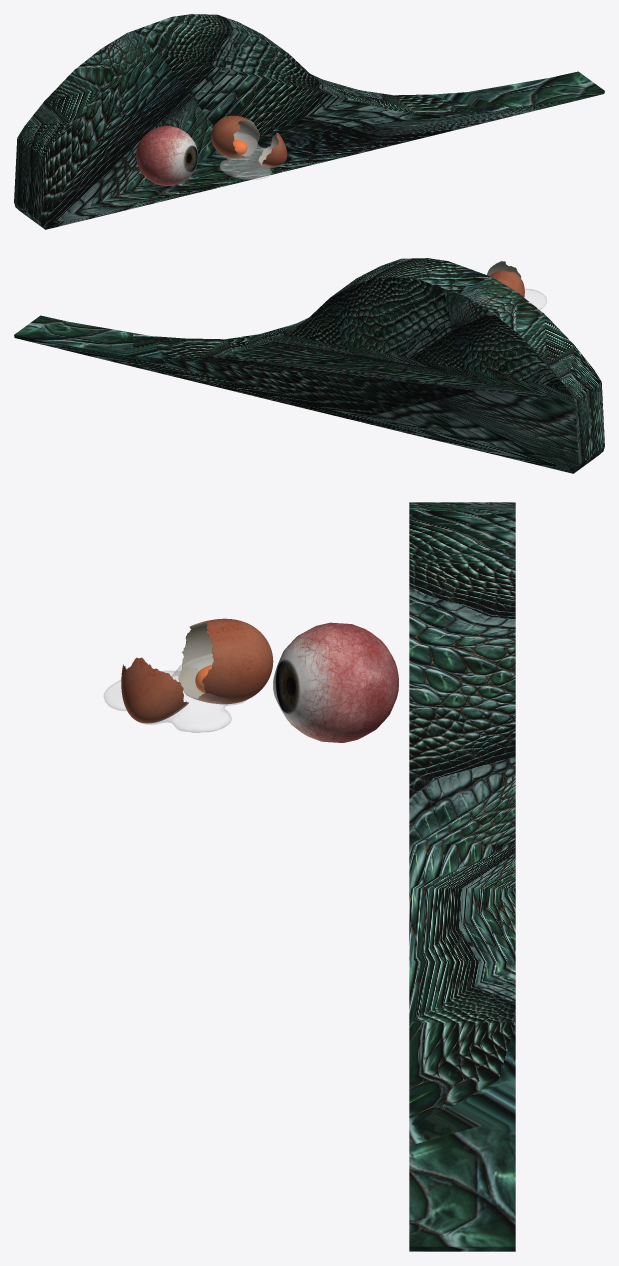
File: interactive.alligator.github.glb
The picture shows the model from 3 angles, top to bottom: view 1: azimuth 30°, elevation 25°; view 2: azimuth 150°, elevation 25°; view 3: azimuth 270°, elevation 25°; orthographic projection. The views are drawn at different scales.
Parts seen in each view (by area): view 1: Plane.001, low, blanc_blanc_0, Bake_target_outside_0, Bake_target_inside_0, Bake_target.001_outside_0; view 2: Plane.001, Bake_target_outside_0, blanc_blanc_0; view 3: Plane.001, low, Bake_target_outside_0, blanc_blanc_0, Bake_target.001_outside_0, Bake_target_inside_0.
Boxes of the visible parts, x1,y1,x2,y2 form: Plane.001: (14,14,604,229); low: (136,126,198,186); blanc_blanc_0: (220,132,280,179); Bake_target_outside_0: (211,115,249,158); Bake_target_inside_0: (234,120,259,156); Bake_target.001_outside_0: (261,134,287,166); Plane.001: (14,258,604,473); Bake_target_outside_0: (490,270,524,297); blanc_blanc_0: (524,289,546,309); Plane.001: (409,502,515,1251); low: (273,622,398,742); Bake_target_outside_0: (193,618,273,704); blanc_blanc_0: (103,653,246,732); Bake_target.001_outside_0: (121,657,188,723); Bake_target_inside_0: (179,623,213,698).
Size of the model in its own units: 30.32 by 8.05 by 9.58.
9 materials, 4 textured.
